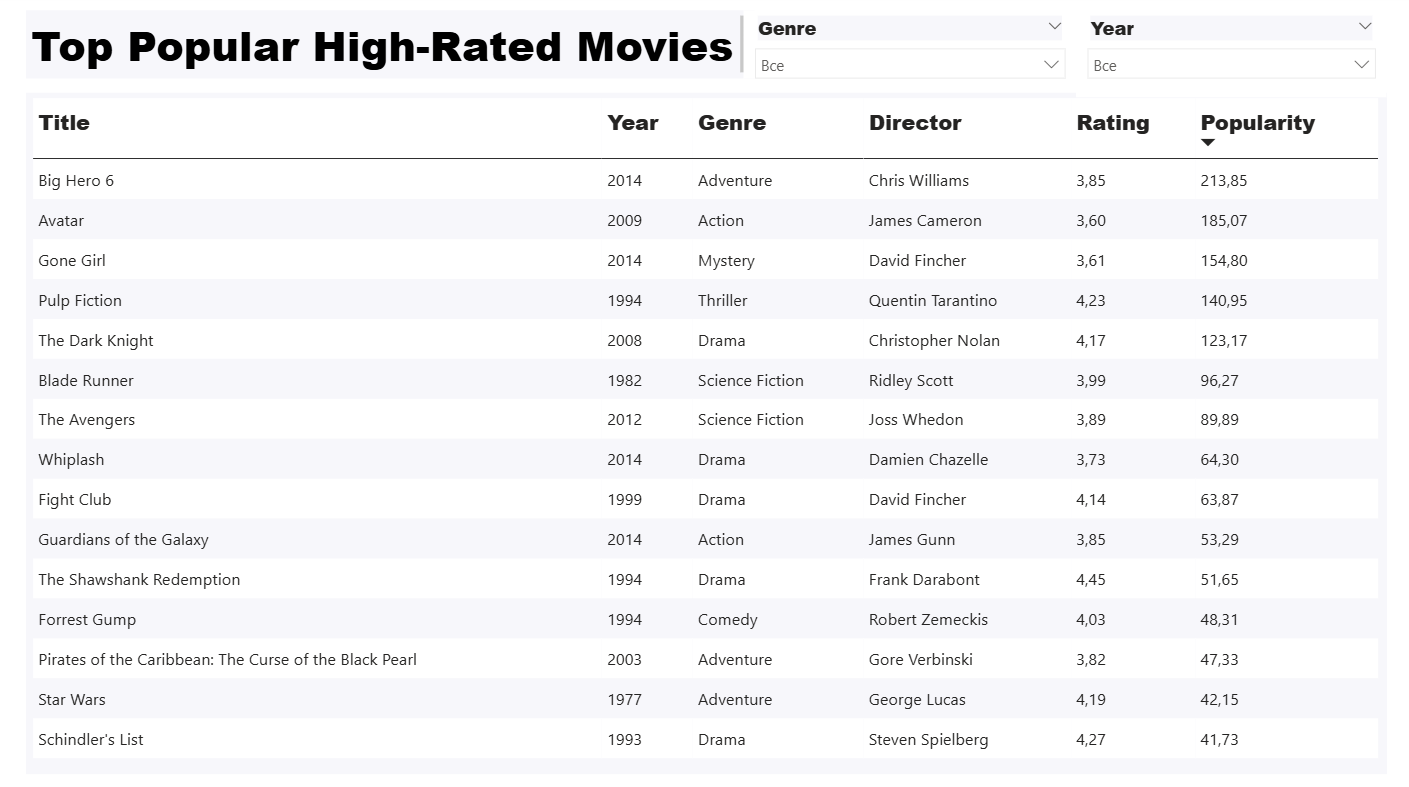

This screenshot's page, from the dashboard's own definition file:
{"tool":"powerbi","page":{"name":"Top movies","canvas":[1280,720],"ordinal":2},"visuals":[{"type":"tableEx","fields":{"Values":["top_popular_high_rated_strict.title","Sum(top_popular_high_rated_strict.release_year)","top_popular_high_rated_strict.main_genre","top_popular_high_rated_strict.director","Avg(top_popular_high_rated_strict.weighted_rating)","Avg(top_popular_high_rated_strict.popularity)"]},"box":[27.1,88.6,1227.1,614.3],"z":0},{"type":"textbox","box":[27.1,14.3,657.1,61.4],"z":1000},{"type":"slicer","fields":{"Values":["top_popular_high_rated_strict.main_genre"]},"box":[674.3,14.3,300,61.4],"z":2000},{"type":"slicer","fields":{"Values":["top_popular_high_rated_strict.year"]},"box":[974.3,14.3,280,78.6],"z":3000}]}

Visuals, with their boxes in screenshot pixels (x1, y1, x2, y2), scaled from the page's 1280x720 canvas onto the 1409x787 screenshot:
tableEx - top_popular_high_rated_strict.title x Sum(top_popular_high_rated_strict.release_year): [left=30, top=97, right=1381, bottom=768]
textbox: [left=30, top=16, right=753, bottom=83]
slicer - top_popular_high_rated_strict.main_genre: [left=742, top=16, right=1072, bottom=83]
slicer - top_popular_high_rated_strict.year: [left=1072, top=16, right=1381, bottom=102]
